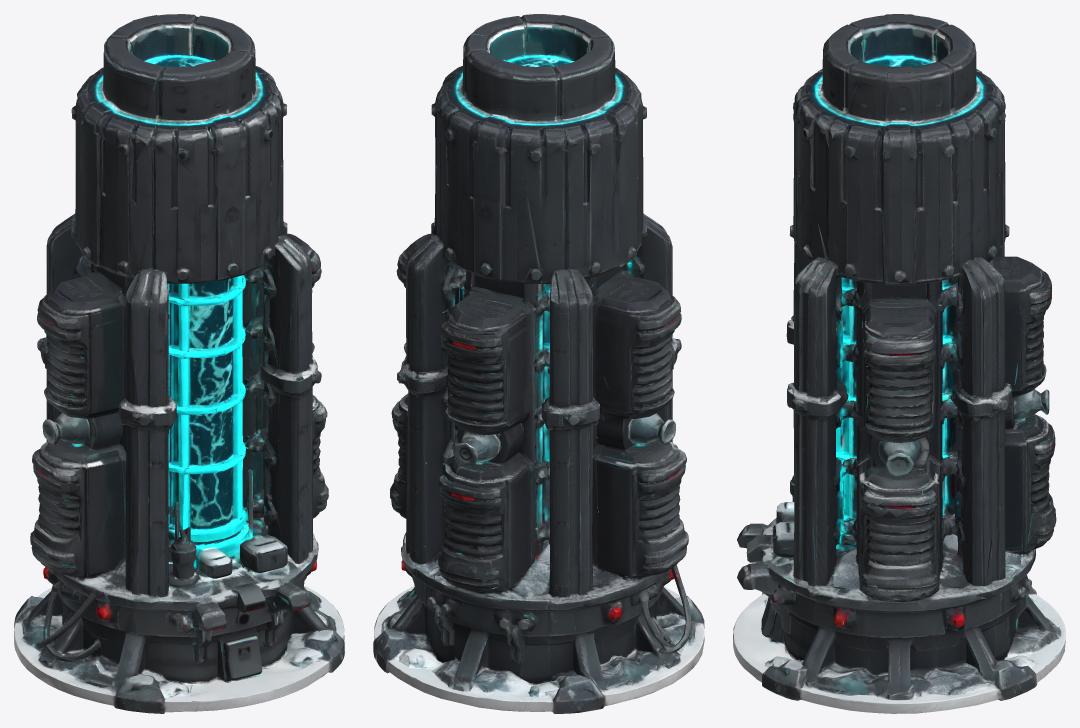
Rendered from reactor_core.glb.
3 views of the same model, side by side, from view 1: azimuth 30°, elevation 25°; view 2: azimuth 150°, elevation 25°; view 3: azimuth 270°, elevation 25° (orthographic).
Bounding box in the file's own units: 0.9543 × 1.9 × 0.9523.
Materials: 1 (1 with a texture image).
